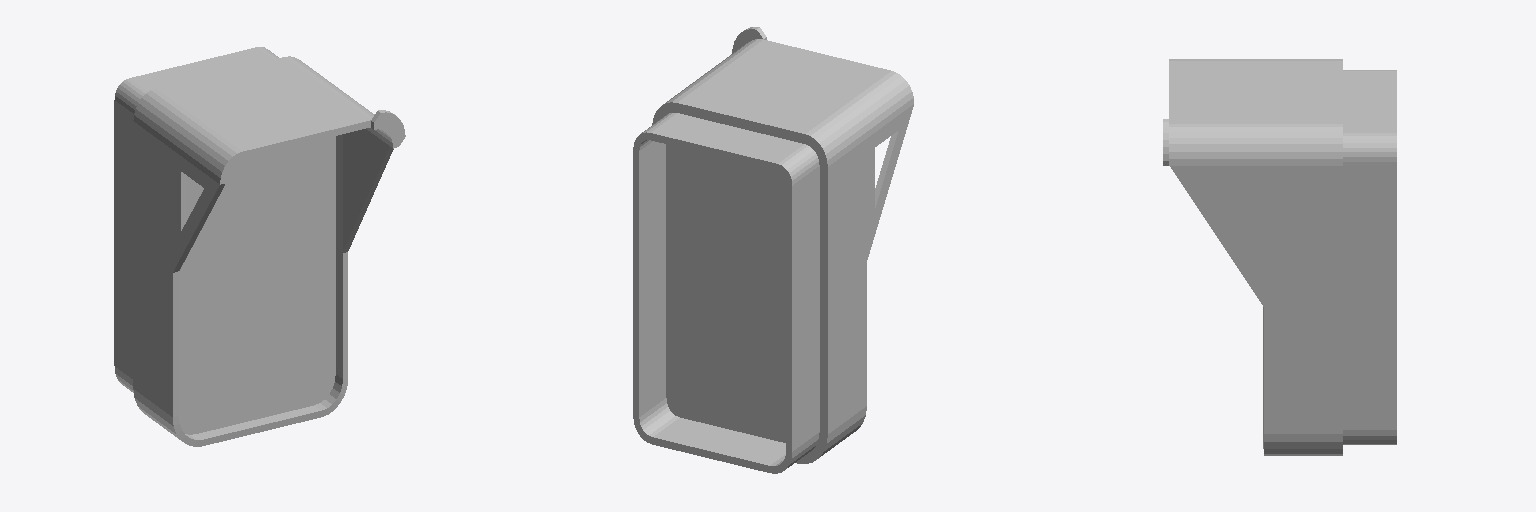
The model's file is Table.obj.
3 views of the same model, side by side, from view 1: azimuth 30°, elevation 25°; view 2: azimuth 150°, elevation 25°; view 3: azimuth 270°, elevation 25° (orthographic).
Parts seen in each view (by area): view 1: Cube.001; view 2: Cube.001; view 3: Cube.001.
Boxes of the visible parts, x1=… form: Cube.001: x1=114, y1=47, x2=405, y2=446; Cube.001: x1=633, y1=27, x2=913, y2=473; Cube.001: x1=1163, y1=59, x2=1396, y2=455.
Bounding box in the file's own units: 180 × 320 × 200.